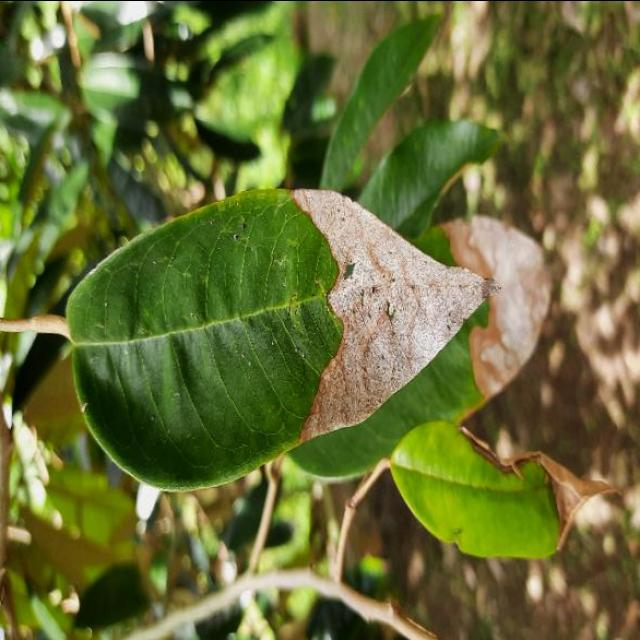Leaf Blight: (49, 158, 576, 503)
